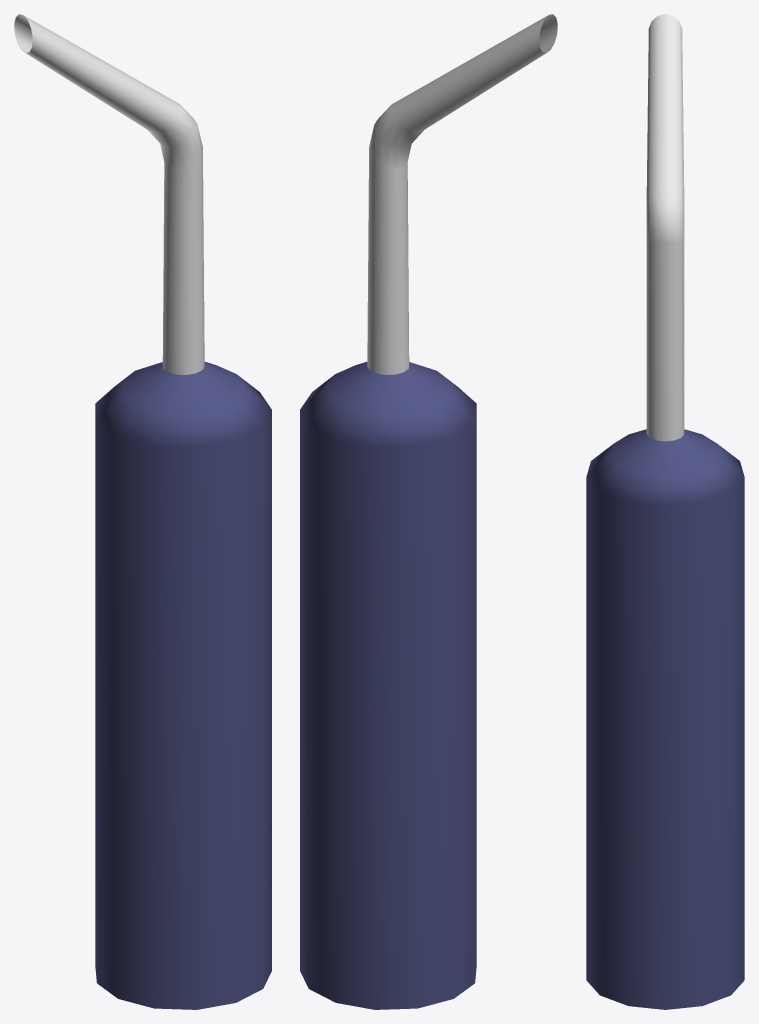
Rendered from iron melt.fbx.
3 renders of one model, left to right at view 1: azimuth 30°, elevation 25°; view 2: azimuth 150°, elevation 25°; view 3: azimuth 270°, elevation 25°, orthographic. The views are drawn at different scales.
Parts seen in each view (by area): view 1: iron_melt; view 2: iron_melt; view 3: iron_melt.
Boxes of the visible parts, x1=… form: iron_melt: x1=14, y1=14, x2=271, y2=1009; iron_melt: x1=300, y1=14, x2=557, y2=1009; iron_melt: x1=586, y1=14, x2=744, y2=1009.
Bounding box in the file's own units: 9.06 × 36.49 × 5.87.
